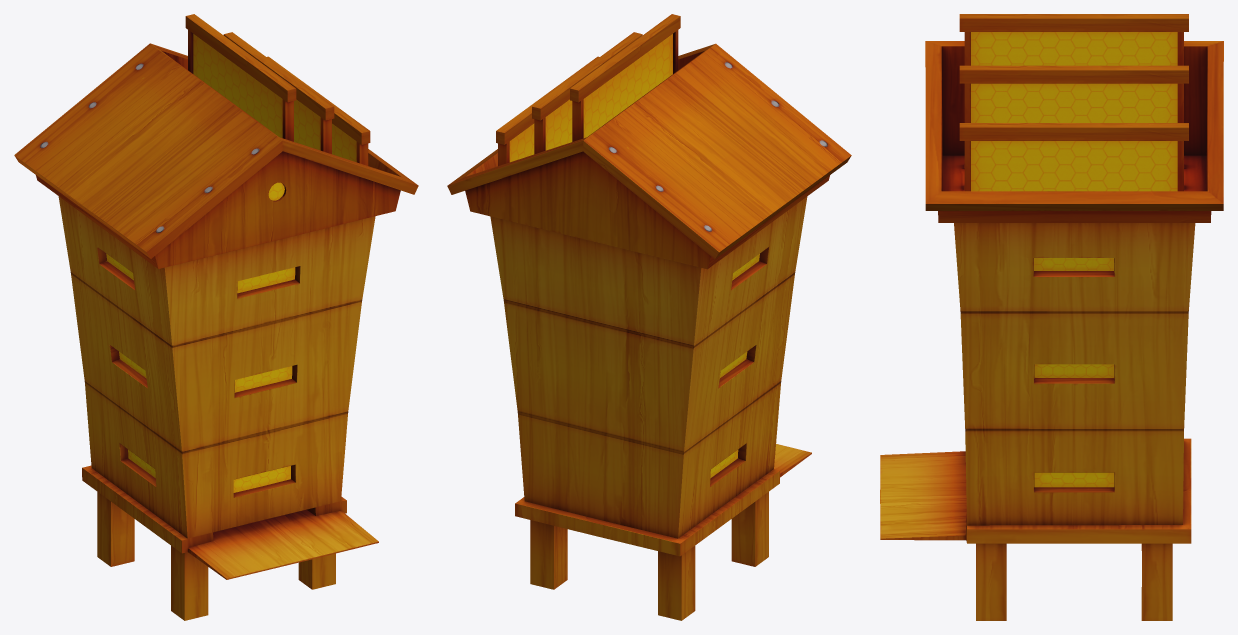
Rendered from BeeHive02.FBX.
3 renders of one model, left to right at view 1: azimuth 30°, elevation 25°; view 2: azimuth 150°, elevation 25°; view 3: azimuth 270°, elevation 25°, orthographic. The views are drawn at different scales.
Visible parts, largest first — view 1: BeeHive02; view 2: BeeHive02; view 3: BeeHive02.
Boxes of the visible parts, x1,y1,x2,y2 form: BeeHive02: [14, 14, 418, 620]; BeeHive02: [447, 14, 851, 620]; BeeHive02: [880, 14, 1223, 620].
Size of what is drawn, in the model's own units: 0.832 by 1.5 by 0.8088.
